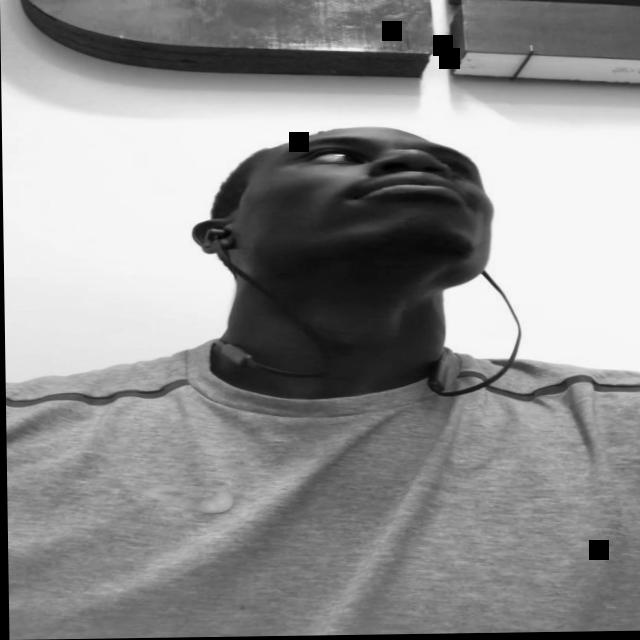NO-Mask: (221, 138, 496, 285)
